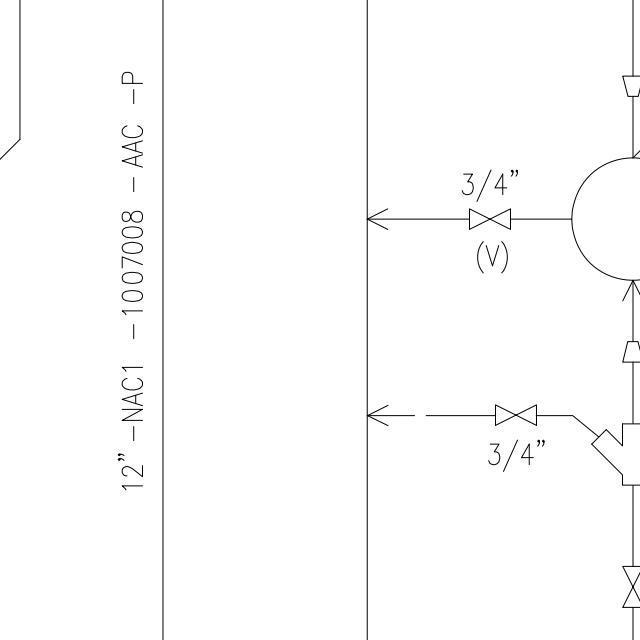GV: (490, 400, 541, 429), (463, 205, 516, 230), (619, 560, 640, 610)
SP: (616, 71, 640, 99), (619, 336, 640, 366)
